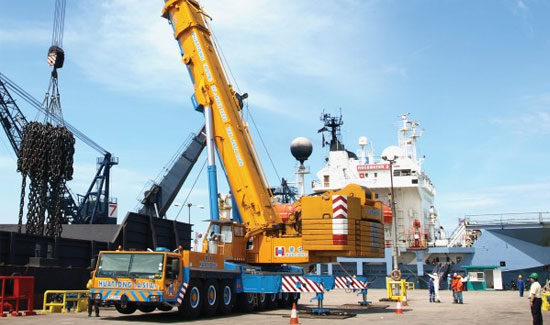crane: (74, 1, 306, 313)
